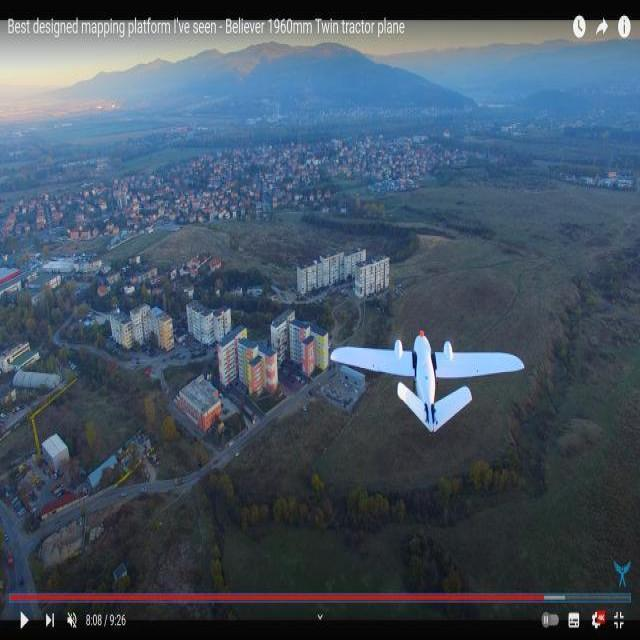iha: (333, 368, 503, 386)
